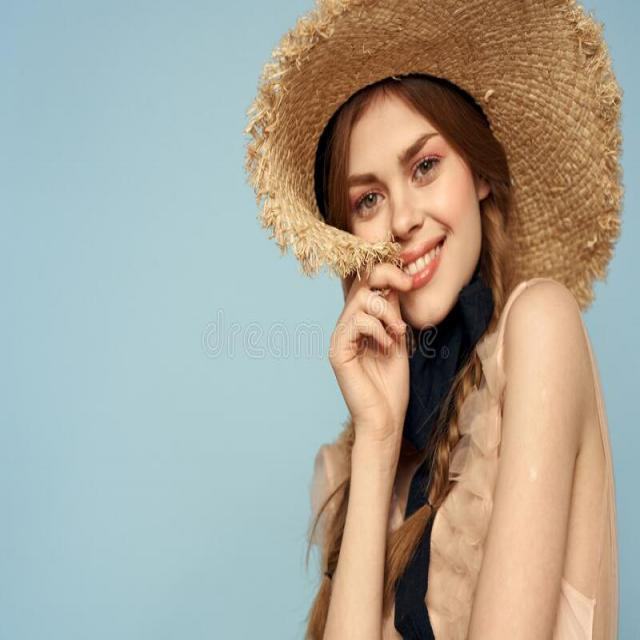hat: (242, 5, 629, 296)
